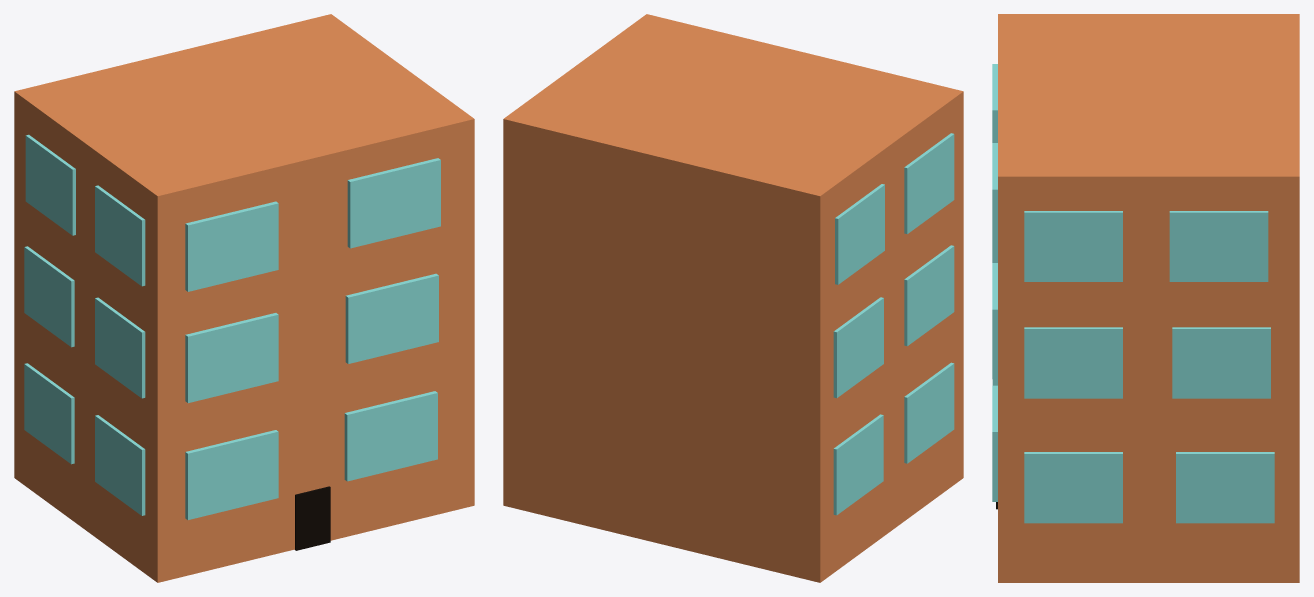
The model's file is blok.fbx.
3 views of the same model, side by side, from view 1: azimuth 30°, elevation 25°; view 2: azimuth 150°, elevation 25°; view 3: azimuth 270°, elevation 25° (orthographic). The views are drawn at different scales.
Visible parts, largest first — view 1: Cube, Cube.003, Cube.006, Cube.002, Cube.001, Cube.005, Cube.004, Cube.010, Cube.012, Cube.008, Cube.009, Cube.011 (+2 smaller); view 2: Cube, Cube.009, Cube.011, Cube.008, Cube.010, Cube.012, Cube.013; view 3: Cube, Cube.016, Cube.017, Cube.018, Cube.019, Cube.015, Cube.014, Cube.001, Cube.002, Cube.005, Cube.003.
Boxes of the visible parts, x1,y1,x2,y2 form: Cube: [14, 14, 474, 582]; Cube.003: [185, 201, 278, 291]; Cube.006: [185, 313, 278, 403]; Cube.002: [344, 391, 437, 481]; Cube.001: [347, 158, 440, 248]; Cube.005: [345, 273, 438, 363]; Cube.004: [185, 430, 278, 519]; Cube.010: [95, 297, 145, 398]; Cube.012: [95, 185, 145, 286]; Cube.008: [95, 415, 145, 515]; Cube.009: [24, 363, 74, 464]; Cube.011: [24, 246, 74, 347]; Cube: [503, 14, 963, 582]; Cube.009: [833, 414, 883, 515]; Cube.011: [833, 297, 883, 398]; Cube.008: [904, 362, 954, 463]; Cube.010: [904, 245, 954, 346]; Cube.012: [904, 133, 954, 234]; Cube.013: [835, 184, 884, 284]; Cube: [998, 14, 1299, 582]; Cube.016: [1024, 327, 1122, 398]; Cube.017: [1172, 327, 1270, 398]; Cube.018: [1024, 452, 1122, 523]; Cube.019: [1176, 452, 1274, 523]; Cube.015: [1169, 211, 1268, 281]; Cube.014: [1024, 211, 1122, 281]; Cube.001: [992, 143, 997, 259]; Cube.002: [992, 385, 997, 501]; Cube.005: [992, 263, 997, 379]; Cube.003: [992, 64, 997, 142].
Bounding box in the file's own units: 11078 × 12655 × 8647.
